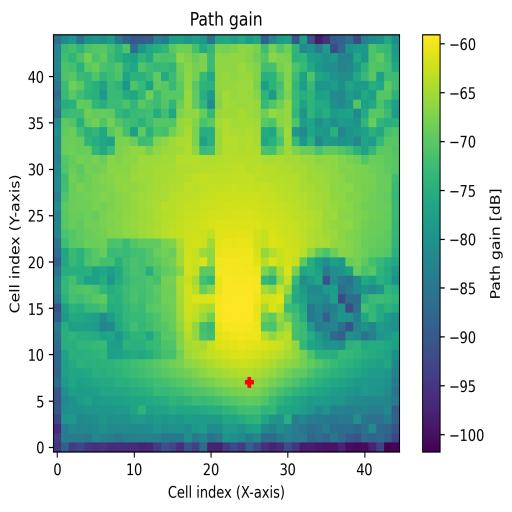Concrete: (292, 42, 386, 145)
Glass: (76, 53, 184, 156)
Metal: (284, 248, 376, 358)
Wood: (99, 238, 176, 360)
